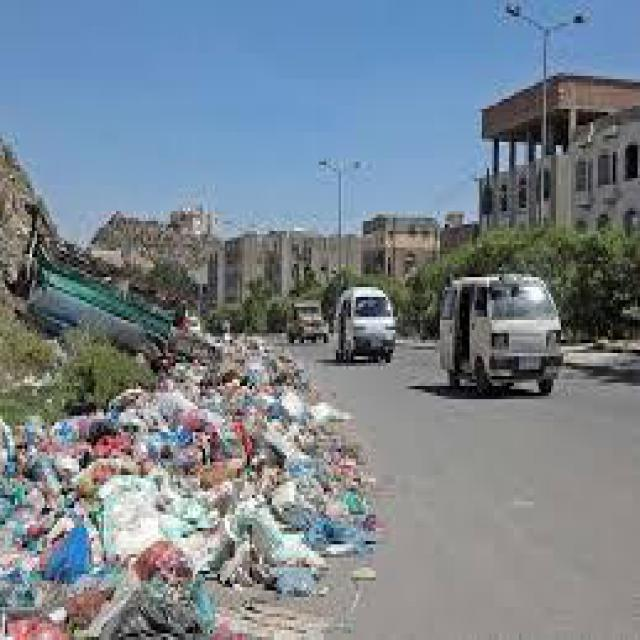garbage: (0, 419, 329, 630), (163, 317, 292, 455)
